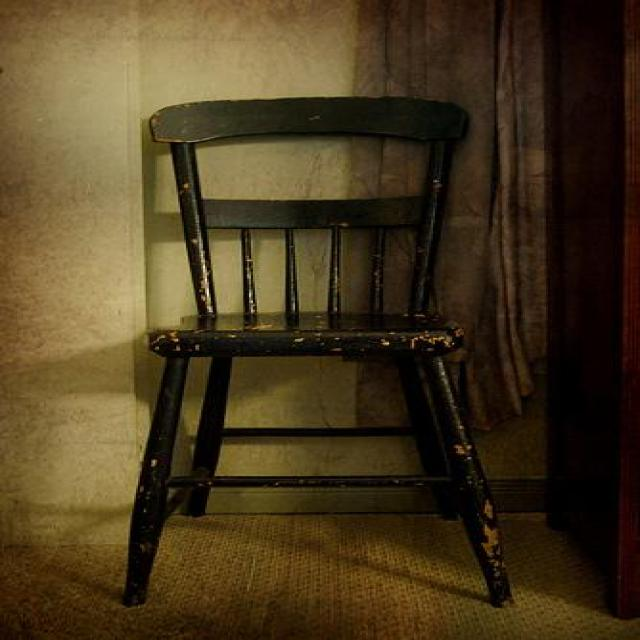chair: (121, 95, 515, 608)
